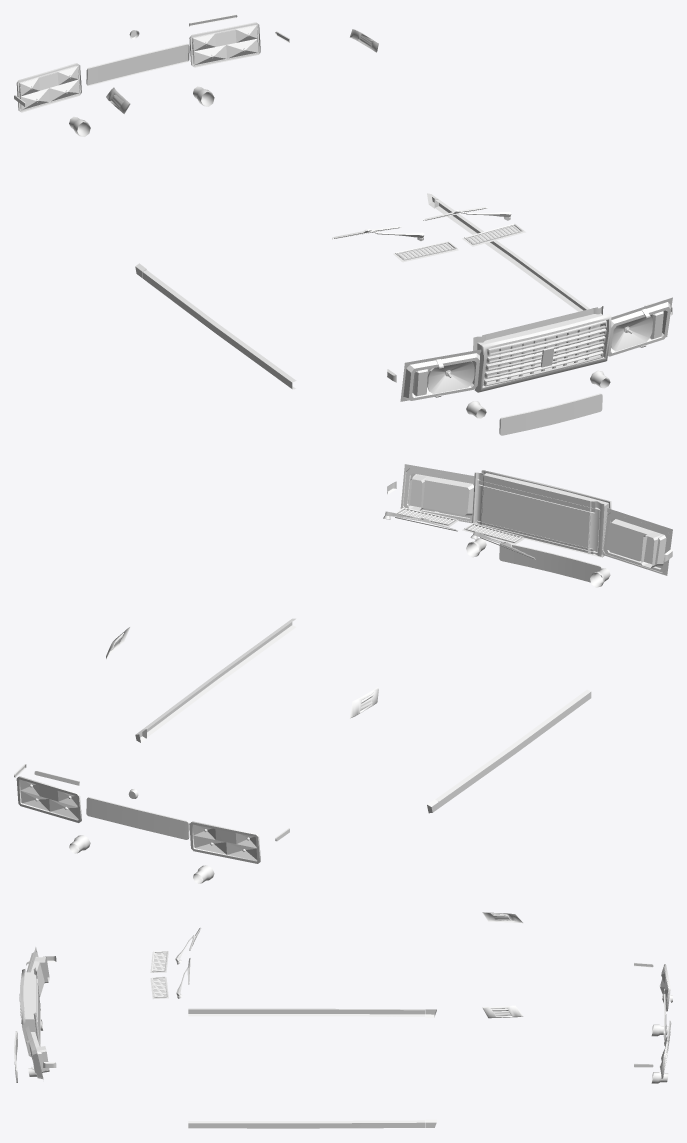
3 renders of one model, top to bottom at view 1: azimuth 30°, elevation 25°; view 2: azimuth 150°, elevation 25°; view 3: azimuth 270°, elevation 25°, orthographic. The views are drawn at different scales.
Size of the model in its own units: 1.69 by 0.7755 by 4.11.
Materials: 1 (1 with a texture image).
